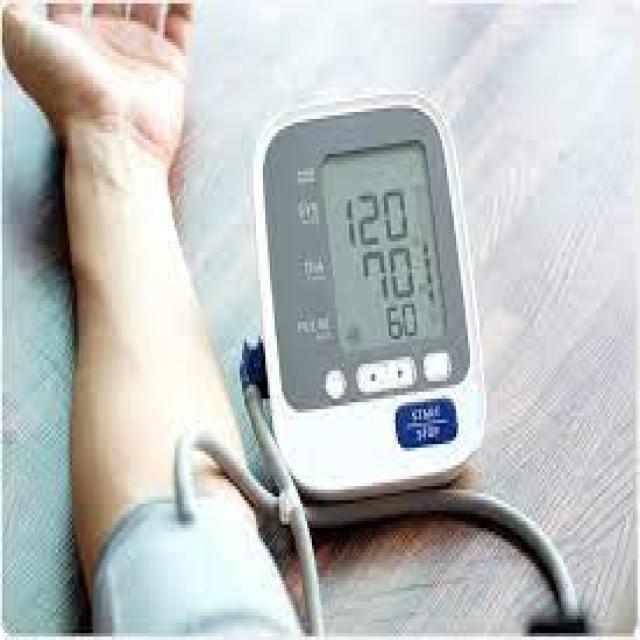dia: (354, 241, 420, 309)
pul: (383, 298, 424, 348)
ssd: (321, 143, 446, 350)
sys: (341, 182, 415, 252)
